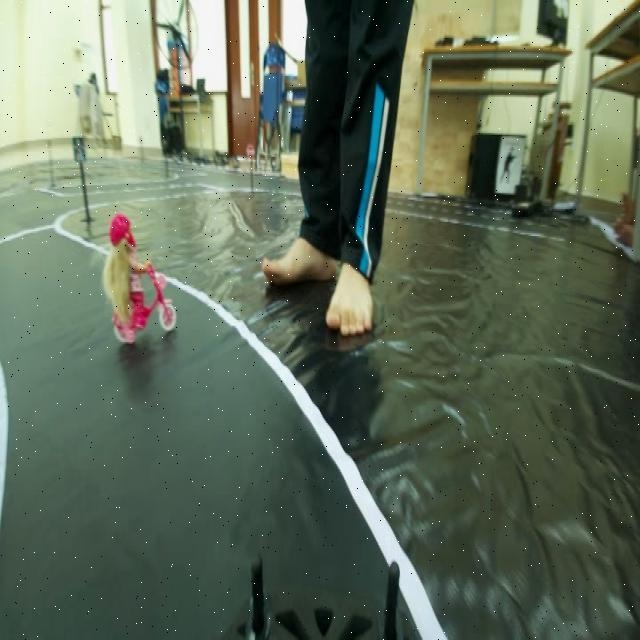pedestrian: (84, 209, 199, 345)
